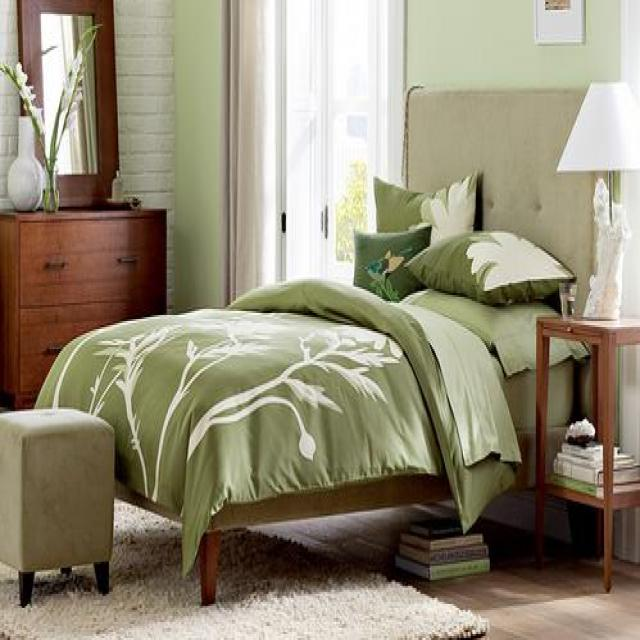bed: (32, 82, 600, 606)
table: (534, 313, 638, 592)
